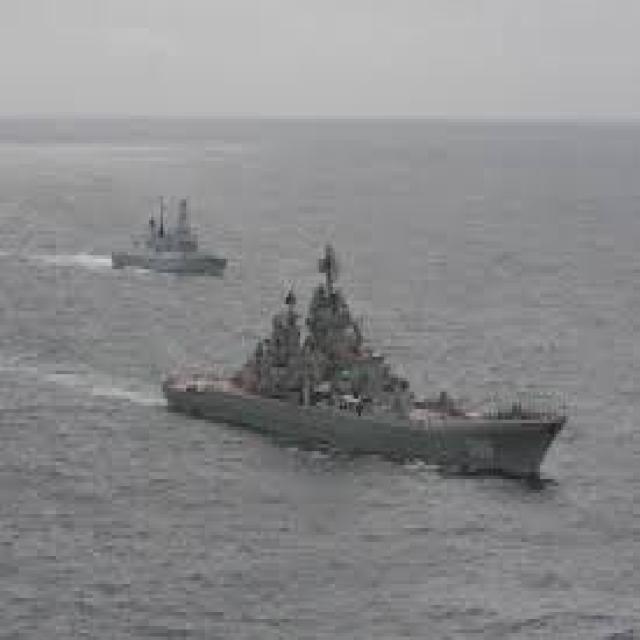navalvessels: (153, 248, 565, 495), (102, 179, 227, 267)
